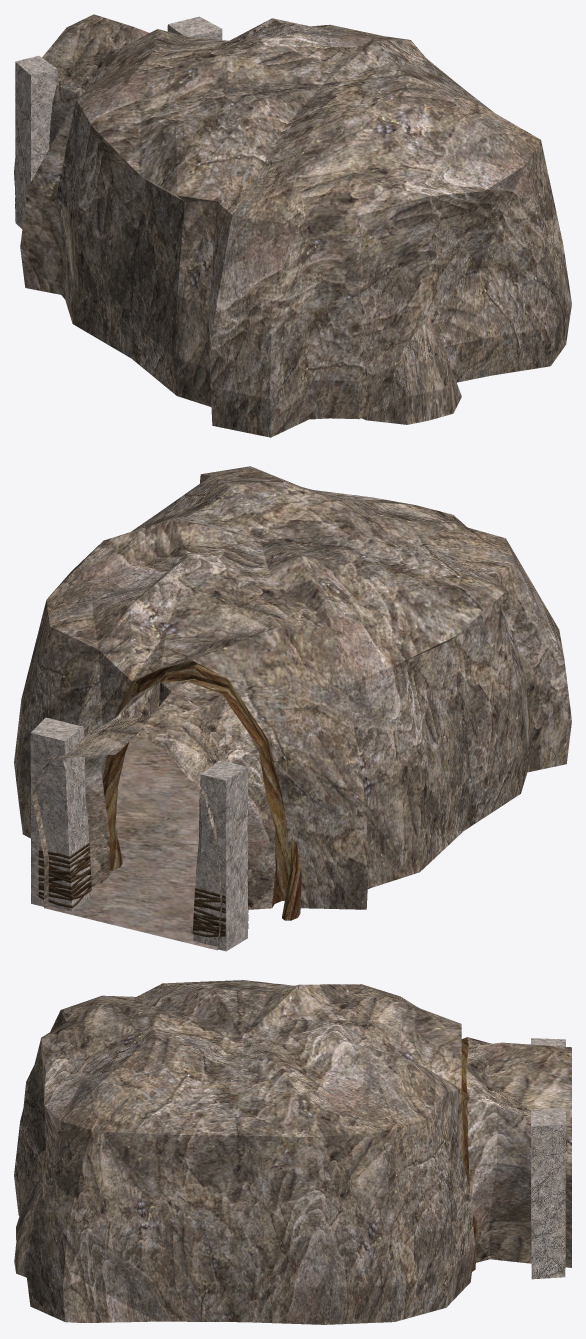
Rendered from thm_dath_mtn_clan_stronghold_r11_craft4_mesh_r11.fbx.
The picture shows the model from 3 angles, top to bottom: view 1: azimuth 30°, elevation 25°; view 2: azimuth 150°, elevation 25°; view 3: azimuth 270°, elevation 25°; orthographic projection. The views are drawn at different scales.
Visible parts, largest first — view 1: mesh_node; view 2: mesh_node; view 3: mesh_node.
Part boxes in pixels (x1,y1,x2,y2): mesh_node: (14, 14, 571, 437); mesh_node: (14, 466, 571, 951); mesh_node: (14, 980, 571, 1324).
Bounding box in the file's own units: 7.2 × 5.1 × 10.2.
